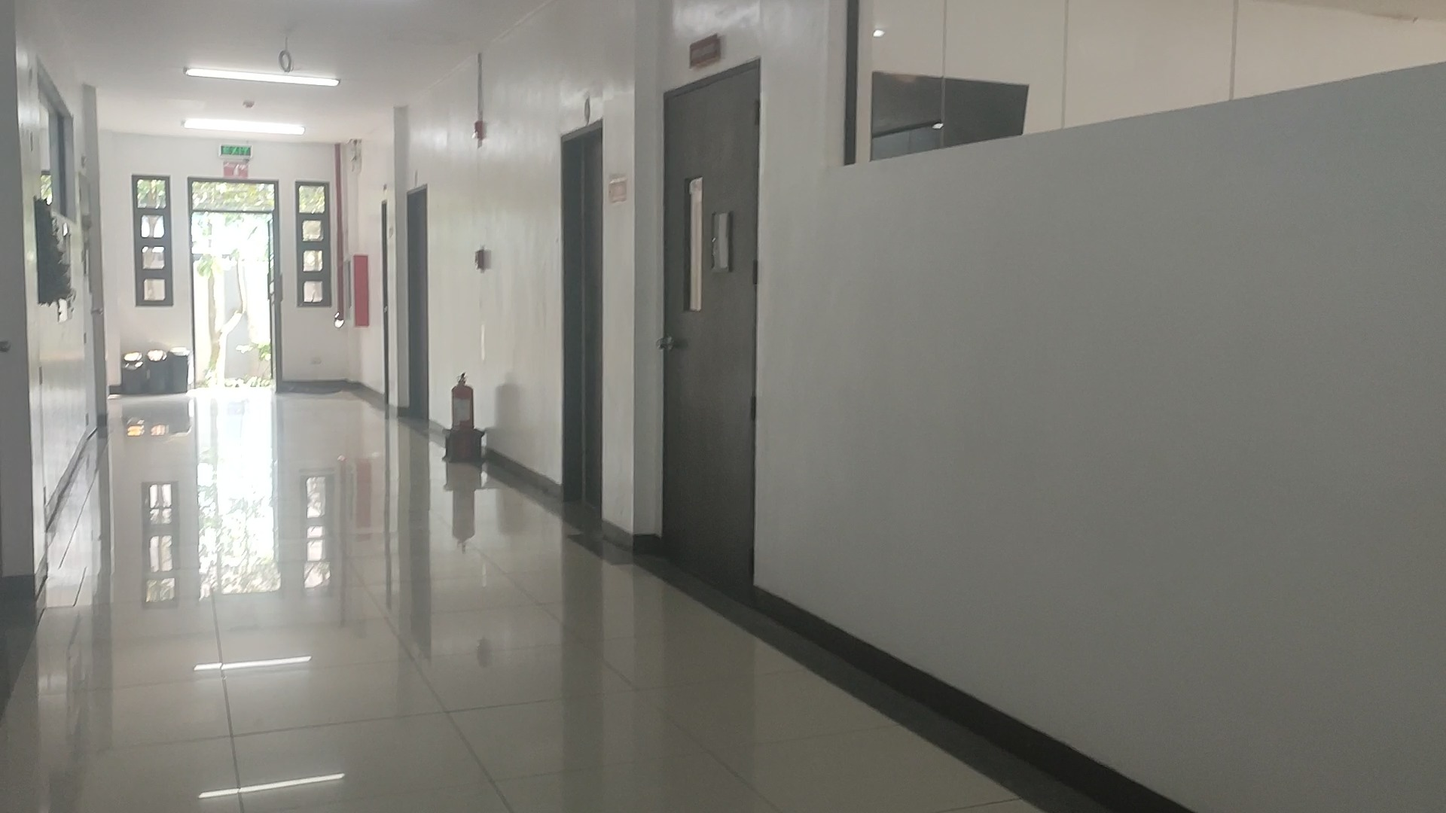door: (660, 59, 761, 601)
